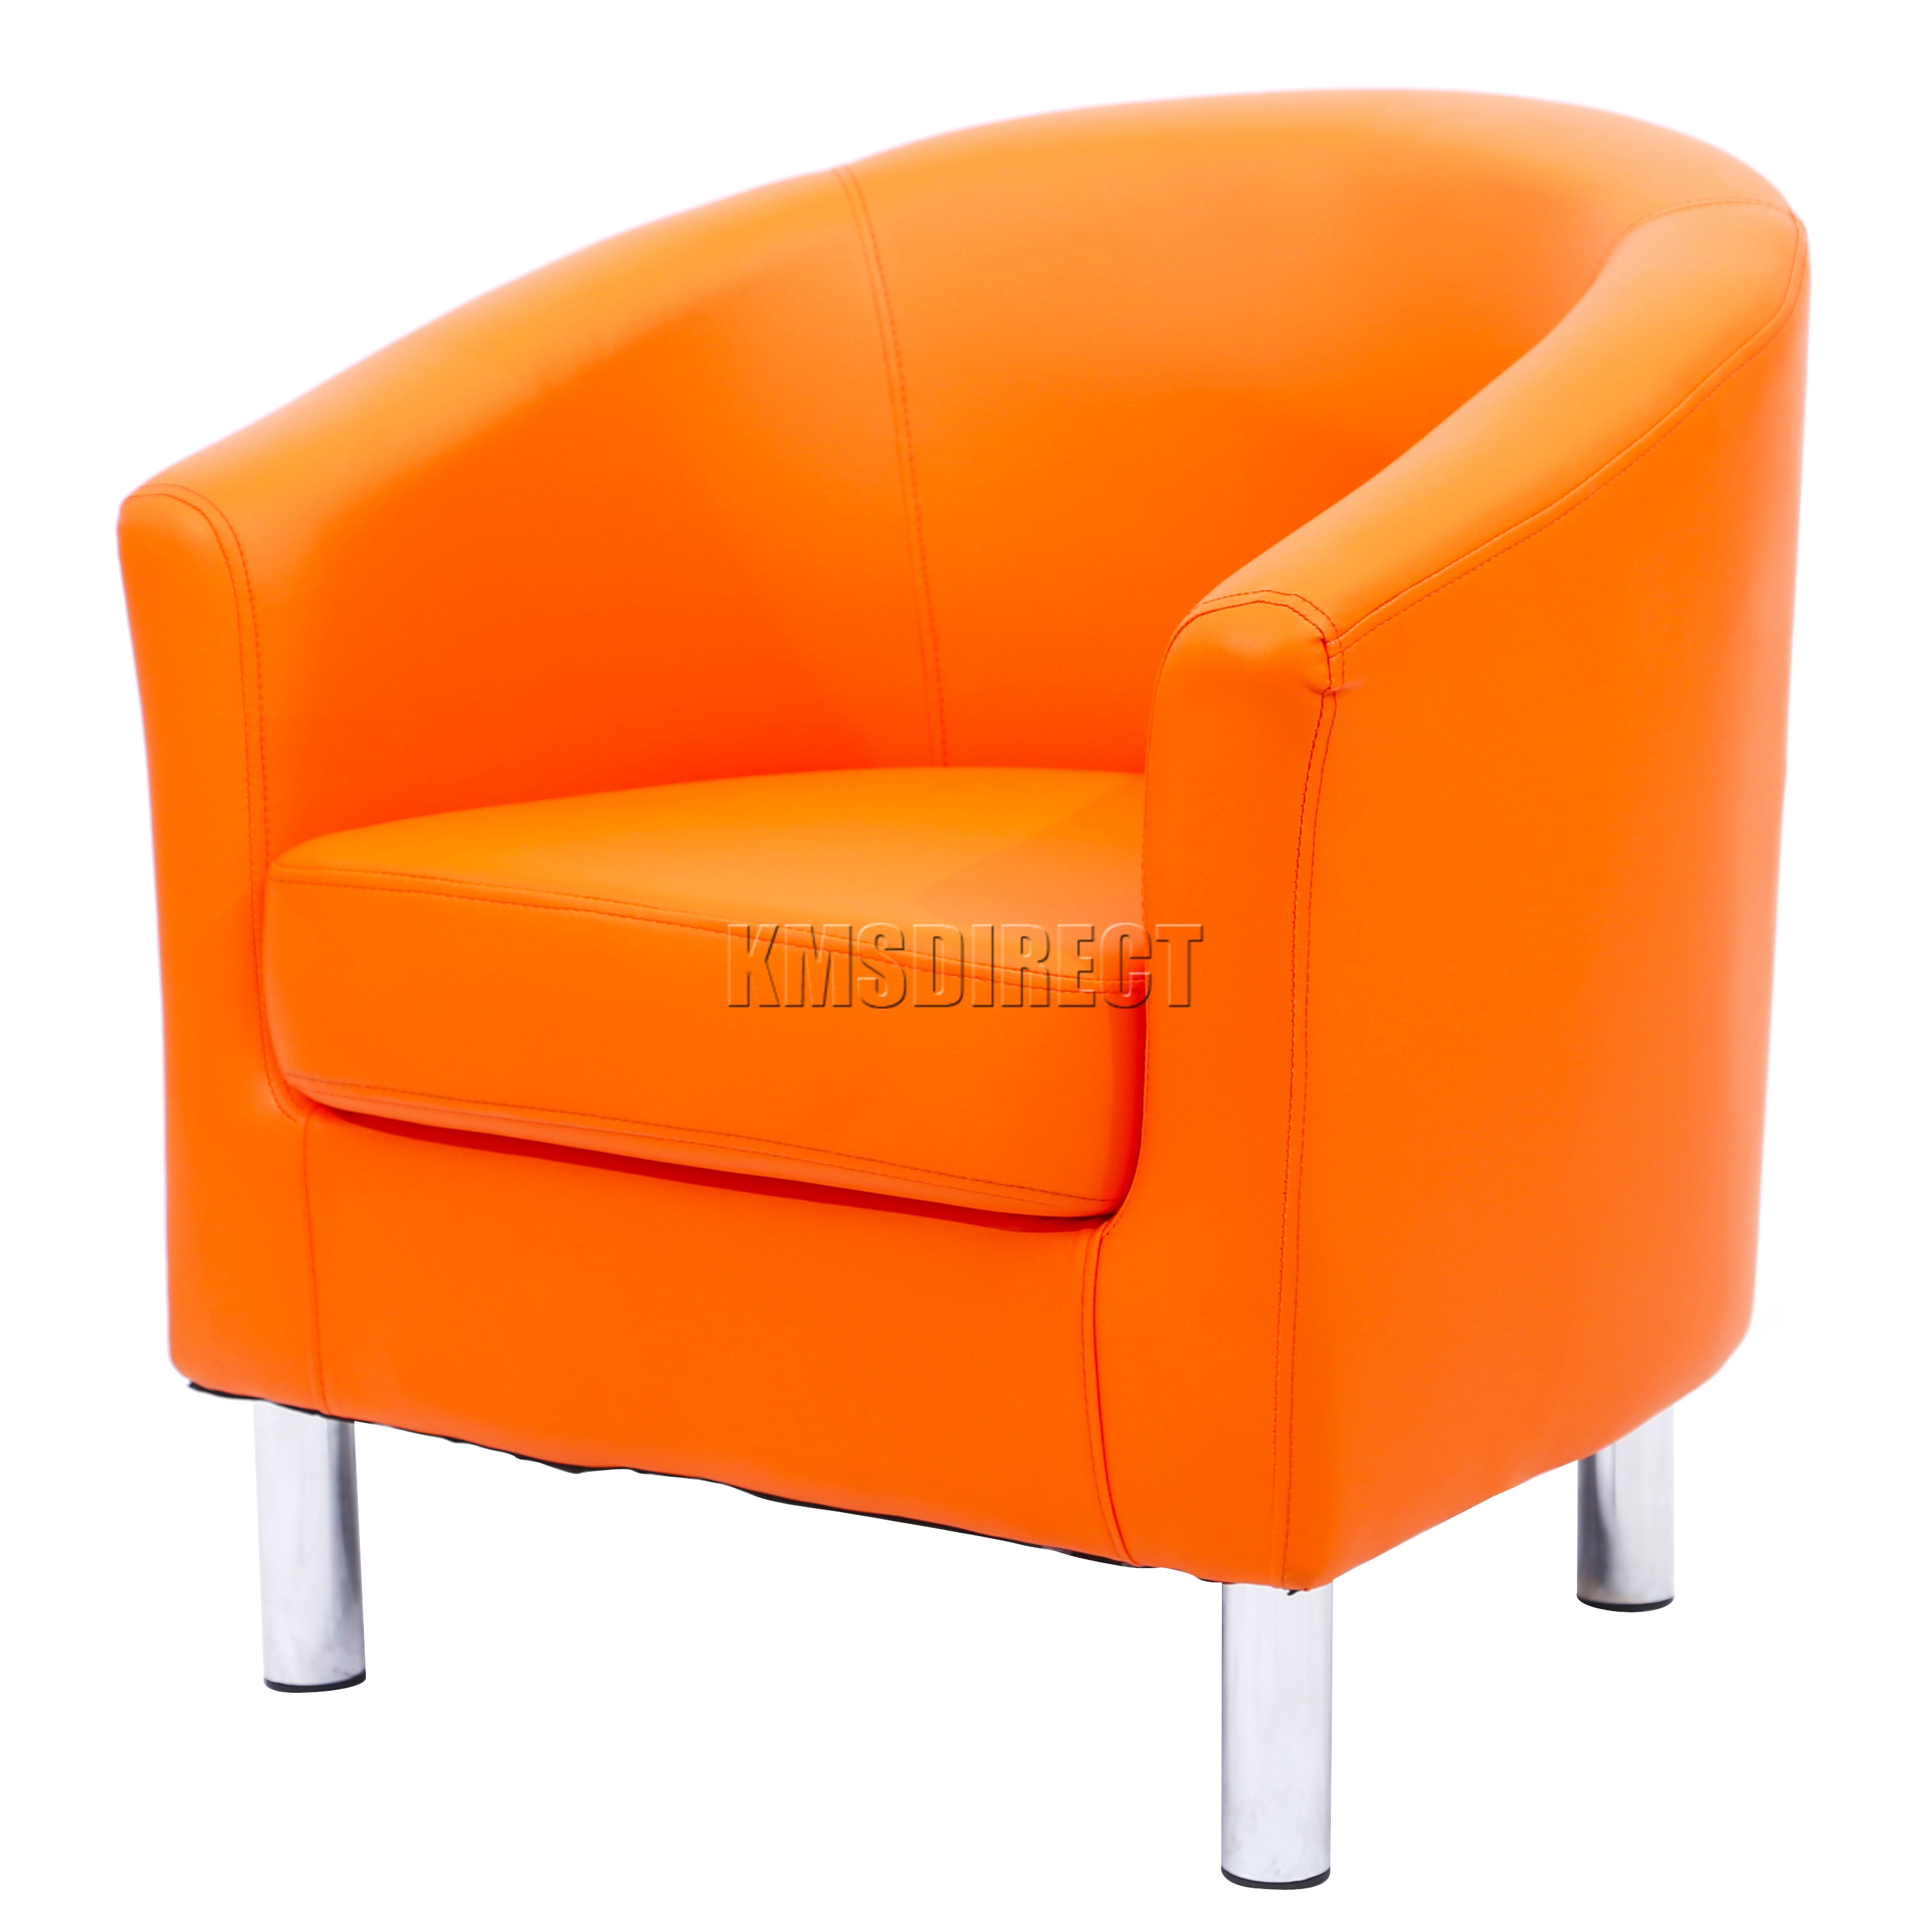chairs: (113, 85, 1810, 1898)
